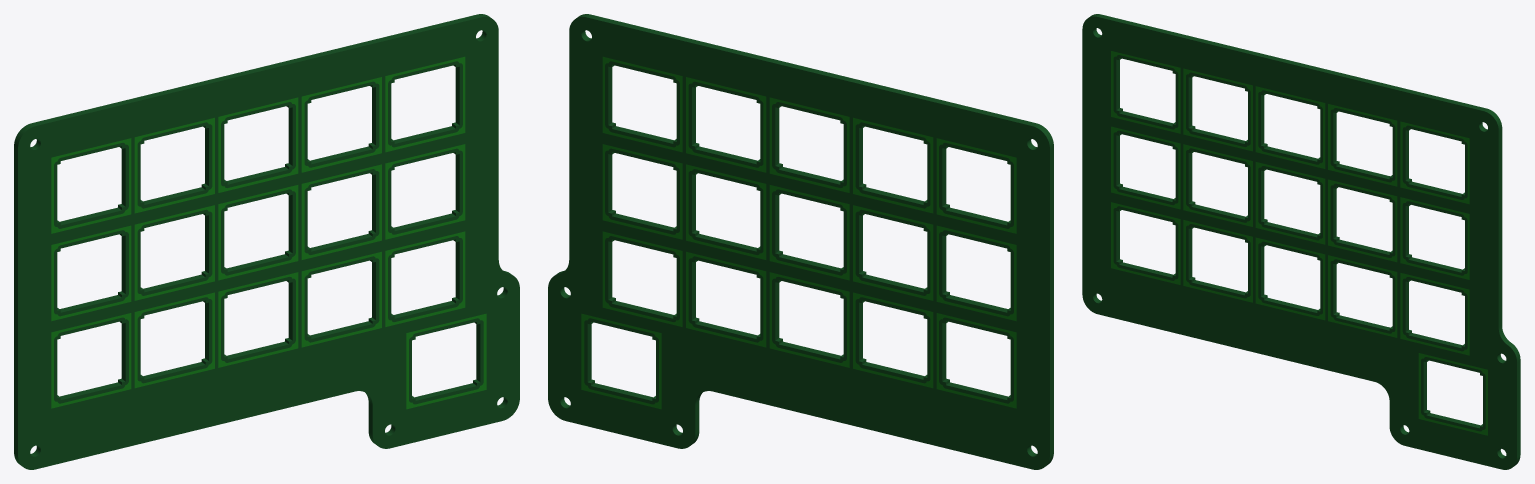
The model's file is Plate.fbx.
3 renders of one model, left to right at view 1: azimuth 30°, elevation 25°; view 2: azimuth 150°, elevation 25°; view 3: azimuth 330°, elevation 25°, orthographic. The views are drawn at different scales.
Visible parts, largest first — view 1: TXFM_2, TXFM_3; view 2: TXFM_2, TXFM_4; view 3: TXFM_2, TXFM_3.
Boxes of the visible parts, <box> form: TXFM_2: <box>14,14,519,469</box>; TXFM_3: <box>51,56,486,409</box>; TXFM_2: <box>548,14,1053,469</box>; TXFM_4: <box>581,56,1016,409</box>; TXFM_2: <box>1082,14,1520,469</box>; TXFM_3: <box>1111,51,1487,435</box>.
Size of the model in its own units: 114506 by 89128 by 1600.
